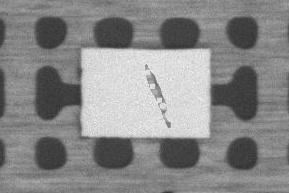DIE_INK: (142, 63, 175, 131)
